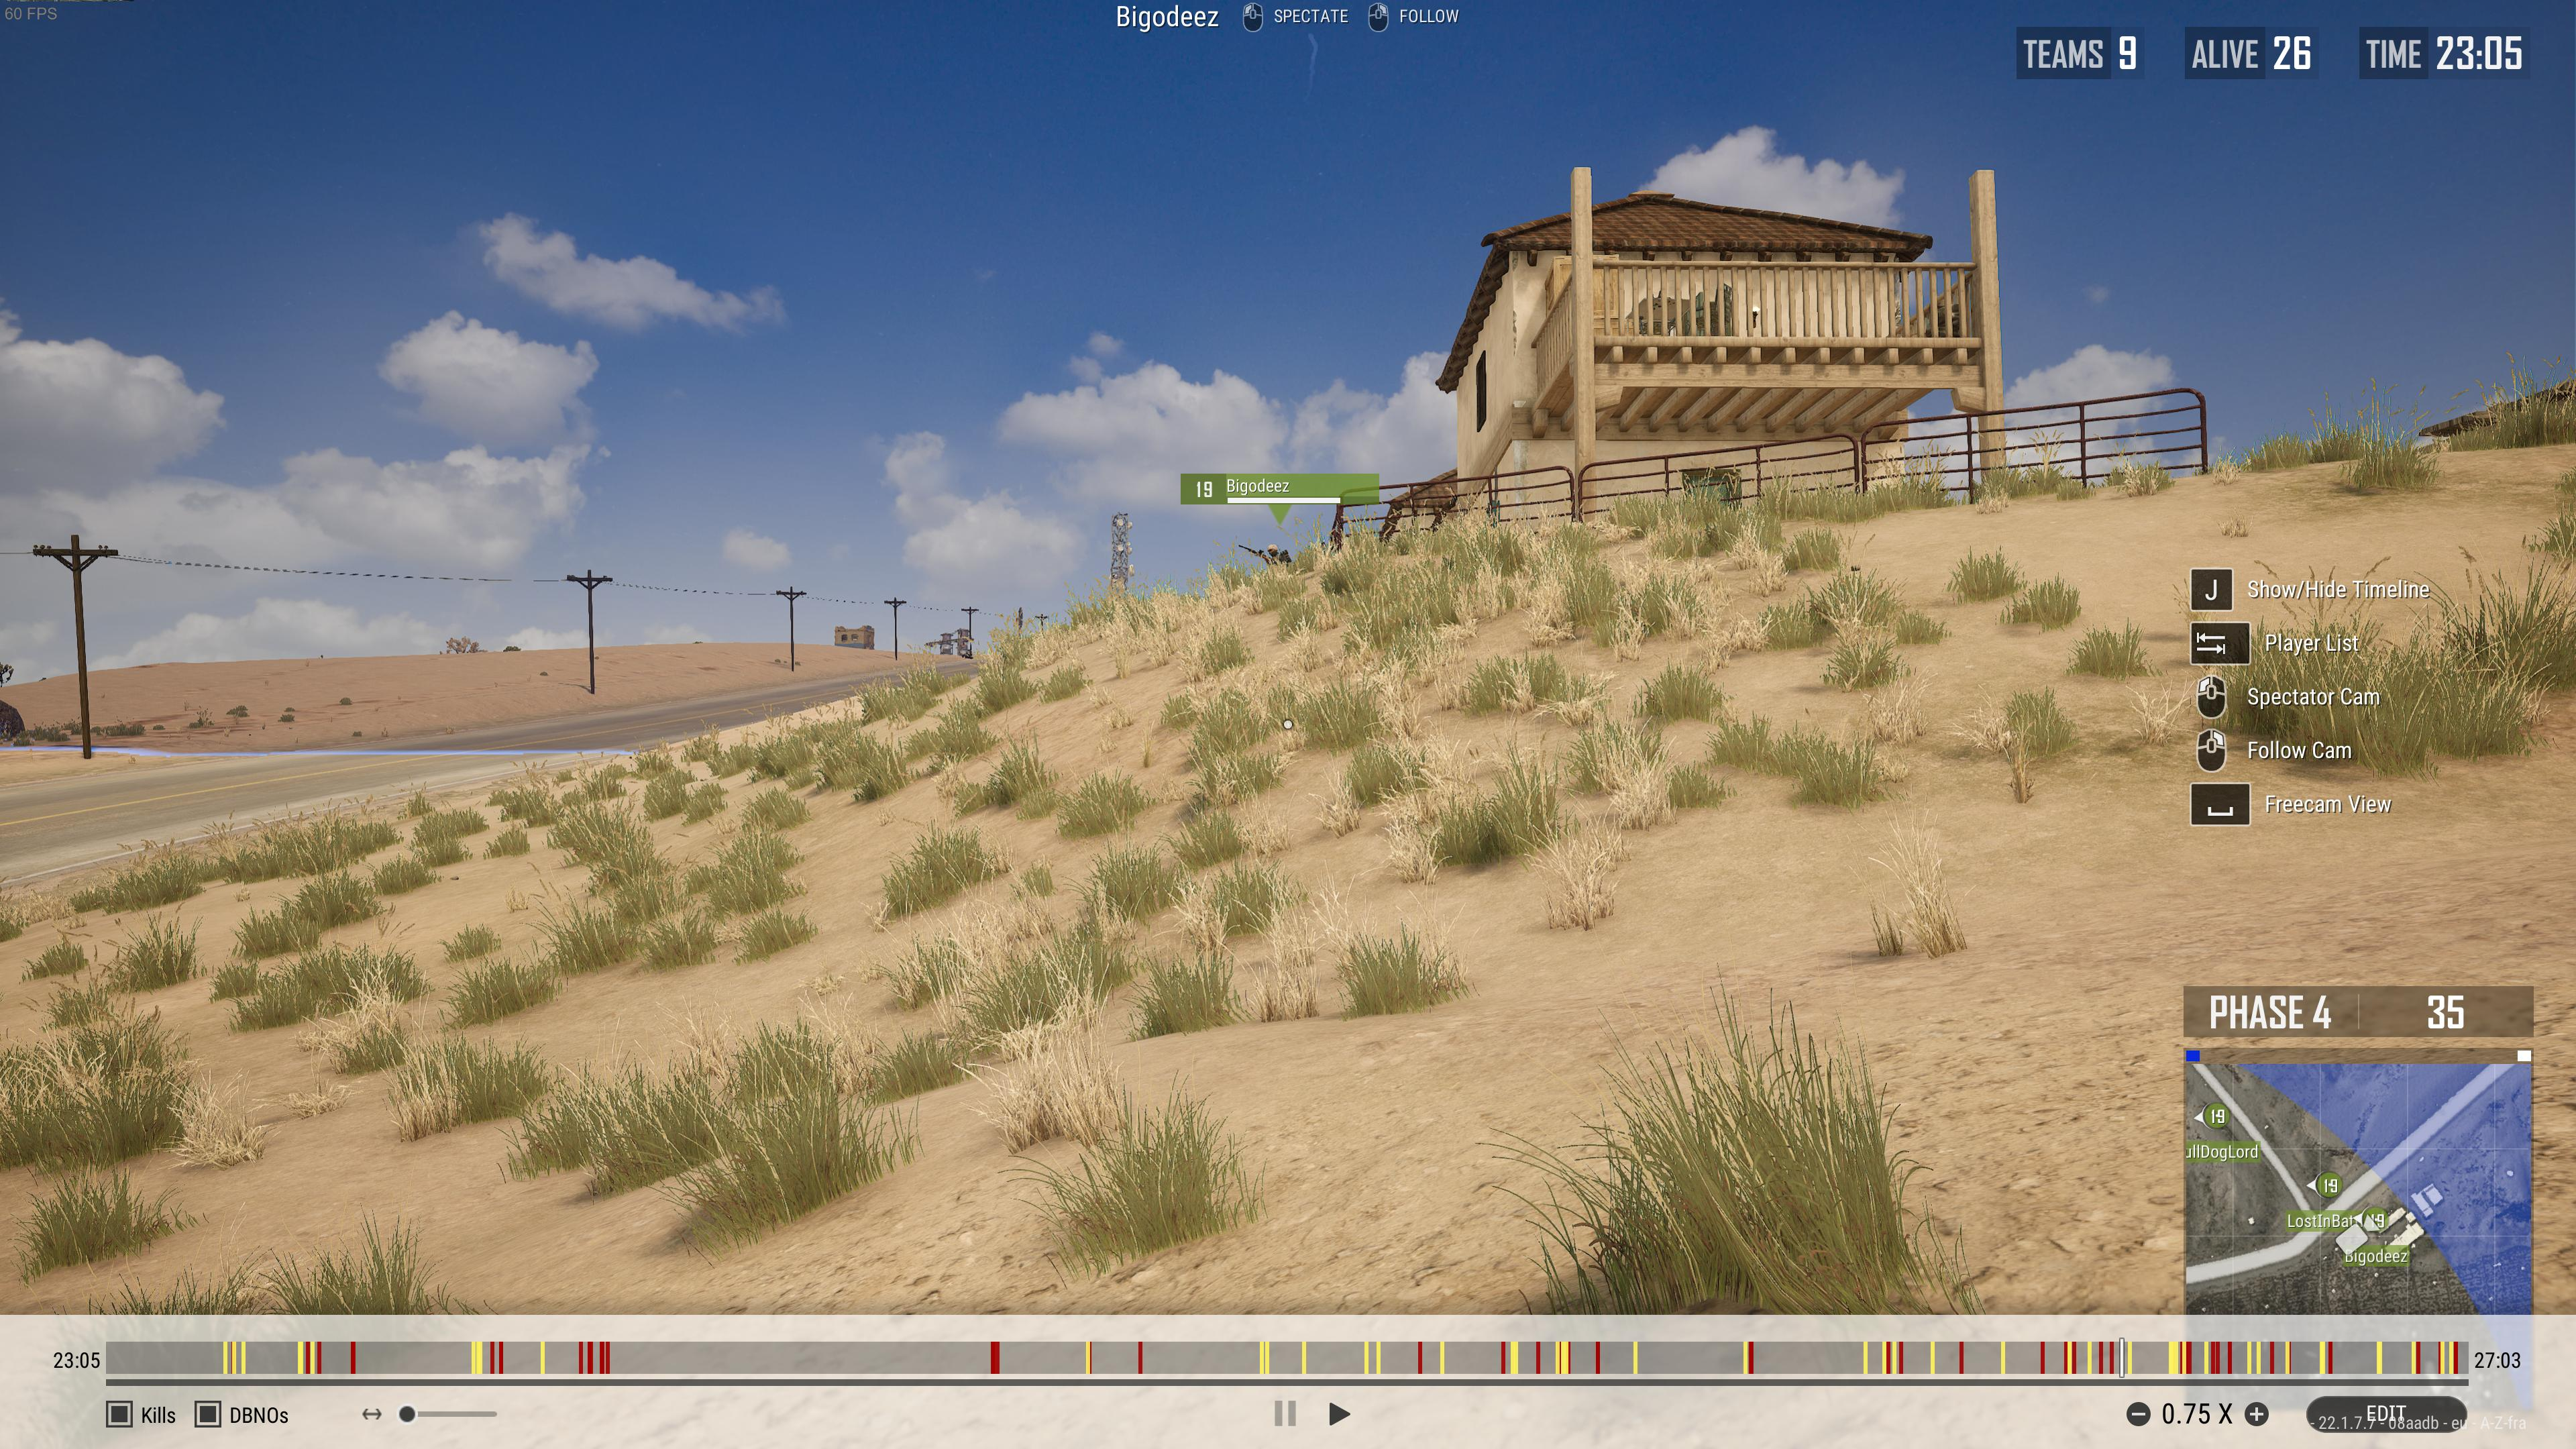enemy: (1253, 543, 1292, 568)
enemy_head: (1267, 543, 1277, 556)
